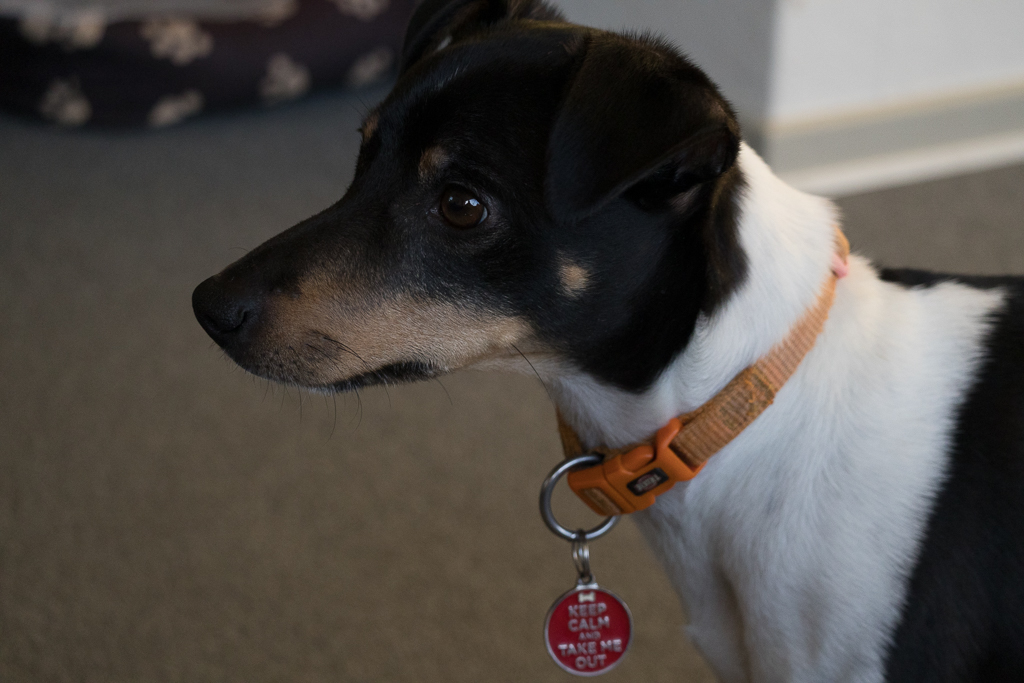Dog: (176, 0, 1024, 683)
